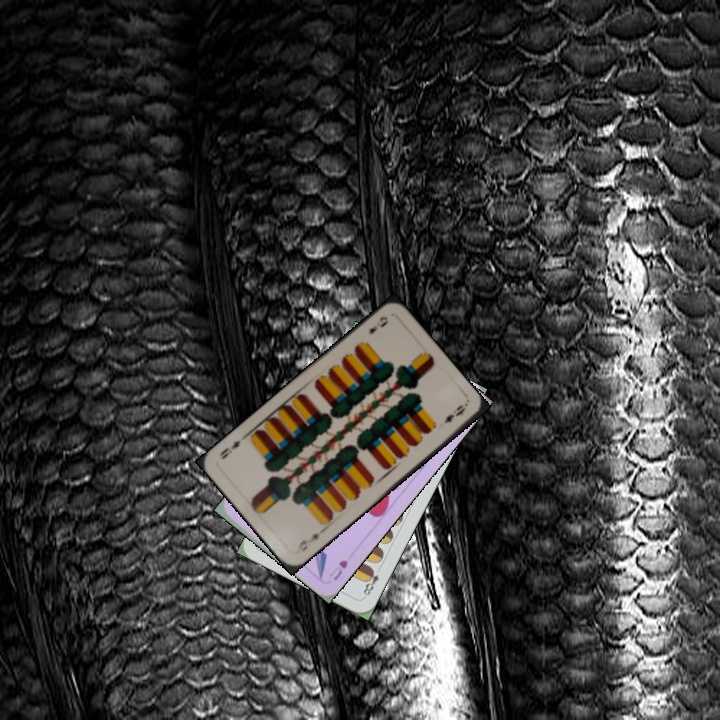E8: (359, 563, 384, 600)
E9: (294, 525, 326, 554), (365, 312, 391, 337)
HU: (325, 556, 350, 583)
